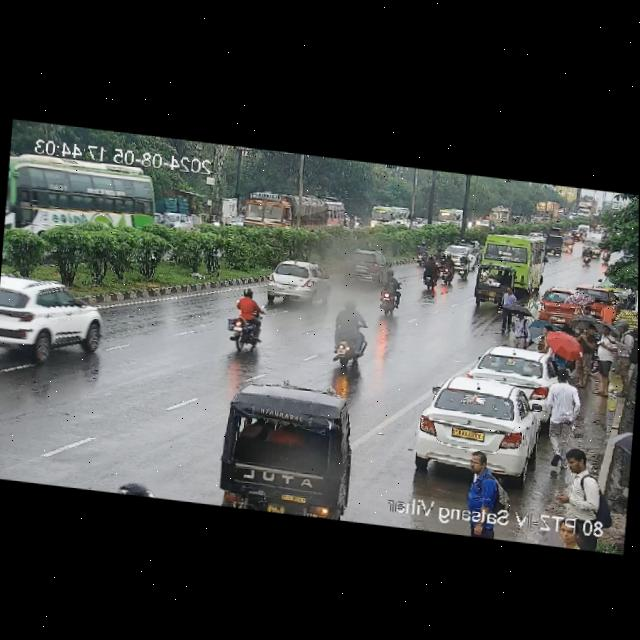bus: (5, 144, 167, 252), (476, 228, 545, 293), (370, 200, 409, 232), (437, 204, 466, 229)
car: (218, 373, 358, 522), (415, 368, 545, 479), (0, 274, 106, 367), (473, 342, 556, 395), (268, 258, 330, 304), (340, 246, 385, 286), (471, 261, 506, 308), (446, 240, 476, 271), (545, 233, 562, 254), (457, 237, 478, 250), (562, 235, 575, 252)
motorcycle: (227, 287, 273, 356), (331, 299, 369, 367), (416, 247, 456, 290), (379, 266, 402, 315), (453, 252, 471, 282), (602, 244, 612, 265), (583, 243, 593, 263)
person: (551, 445, 611, 518), (539, 364, 581, 462), (463, 447, 498, 515), (497, 286, 541, 336), (611, 320, 638, 398), (591, 324, 618, 399), (576, 323, 598, 388), (558, 517, 580, 549), (512, 307, 530, 345), (552, 344, 569, 370), (537, 324, 552, 352), (600, 297, 615, 324)
truck: (243, 184, 331, 235), (532, 198, 559, 226), (486, 205, 516, 228)
